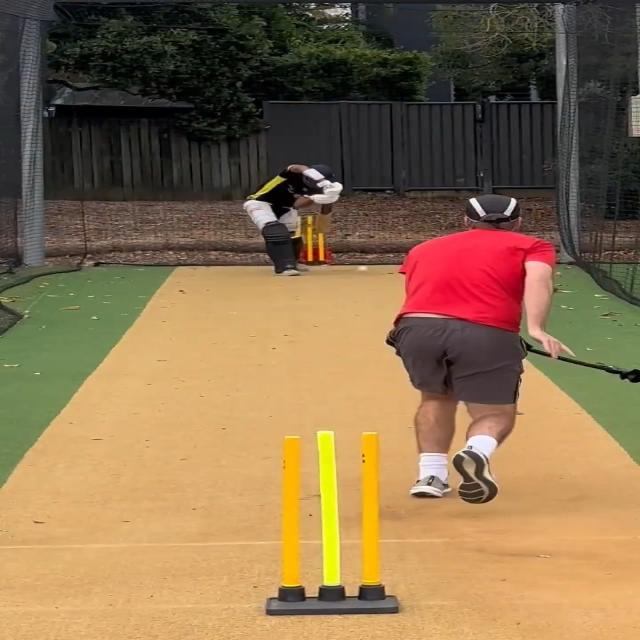ball: (356, 266, 368, 273)
stump: (266, 428, 402, 616)
